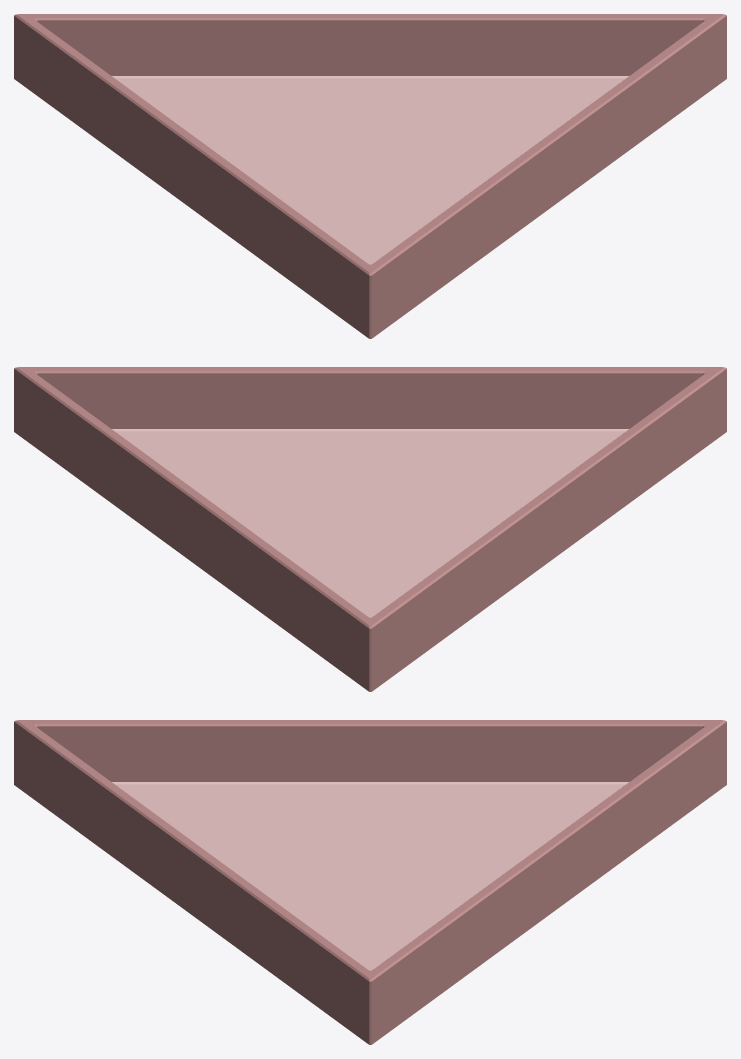
File: tri.fbx
3 renders of one model, top to bottom at view 1: azimuth 30°, elevation 25°; view 2: azimuth 150°, elevation 25°; view 3: azimuth 270°, elevation 25°, orthographic.
Visible parts, largest first — view 1: Table_Tri; view 2: Table_Tri; view 3: Table_Tri.
Part boxes in pixels (bbox=[...]): Table_Tri: bbox=[14, 14, 726, 338]; Table_Tri: bbox=[14, 367, 726, 691]; Table_Tri: bbox=[14, 720, 726, 1044].
Bounding box in the file's own units: 8.63 × 1 × 9.97.
